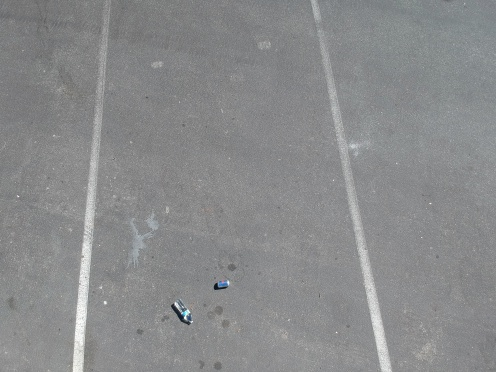bottle: (166, 295, 202, 329)
can: (211, 277, 236, 290)
